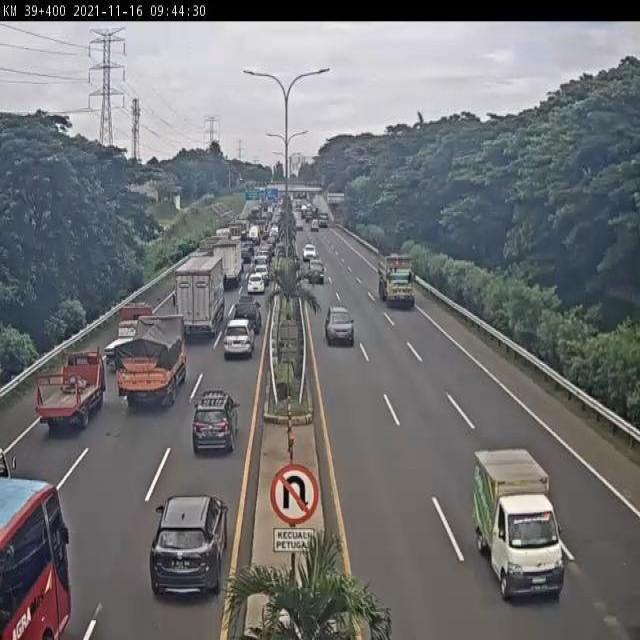car: (148, 503, 228, 604), (190, 396, 236, 455), (220, 324, 252, 365), (325, 303, 355, 344), (232, 296, 260, 336), (246, 274, 265, 294)
small truck: (472, 448, 566, 603), (31, 354, 101, 434), (103, 305, 153, 363)
truck-l-: (172, 254, 223, 338), (376, 248, 415, 311)
truck-m-: (115, 320, 189, 412), (214, 241, 243, 287)
